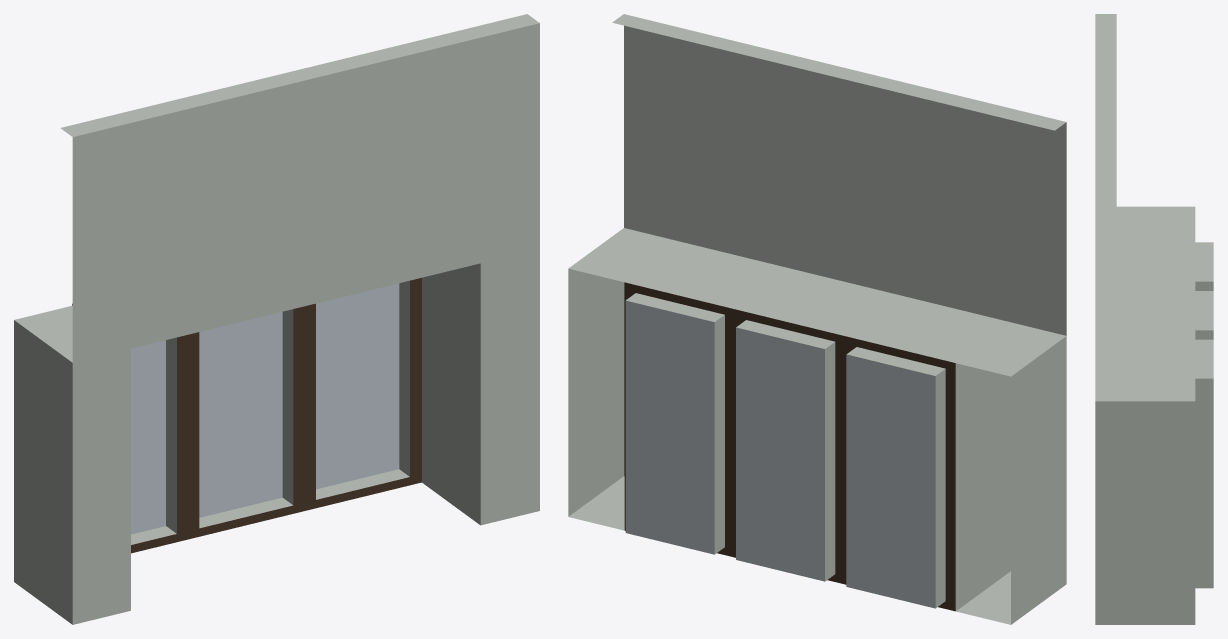
File: fbx_building_2_window2.fbx
The picture shows the model from 3 angles, left to right: view 1: azimuth 30°, elevation 25°; view 2: azimuth 150°, elevation 25°; view 3: azimuth 270°, elevation 25°; orthographic projection. The views are drawn at different scales.
Parts seen in each view (by area): view 1: fbx_building_2_window2; view 2: fbx_building_2_window2; view 3: fbx_building_2_window2.
Part boxes in pixels (x1,y1,x2,y2): fbx_building_2_window2: [14, 14, 539, 624]; fbx_building_2_window2: [568, 14, 1066, 624]; fbx_building_2_window2: [1095, 14, 1213, 624].
Size of the model in its own units: 1.07 by 1.07 by 0.2762.
2 materials, 1 textured.
